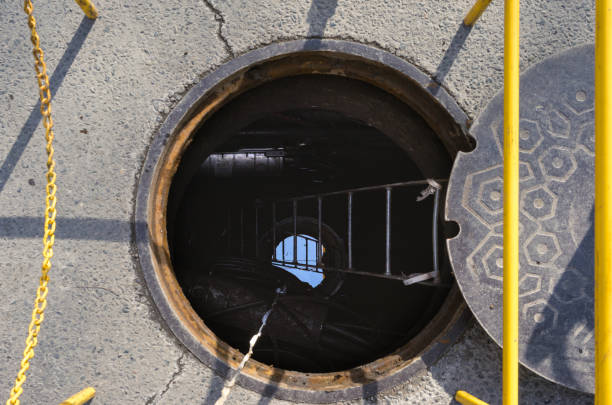open_manhole: (138, 63, 499, 373)
